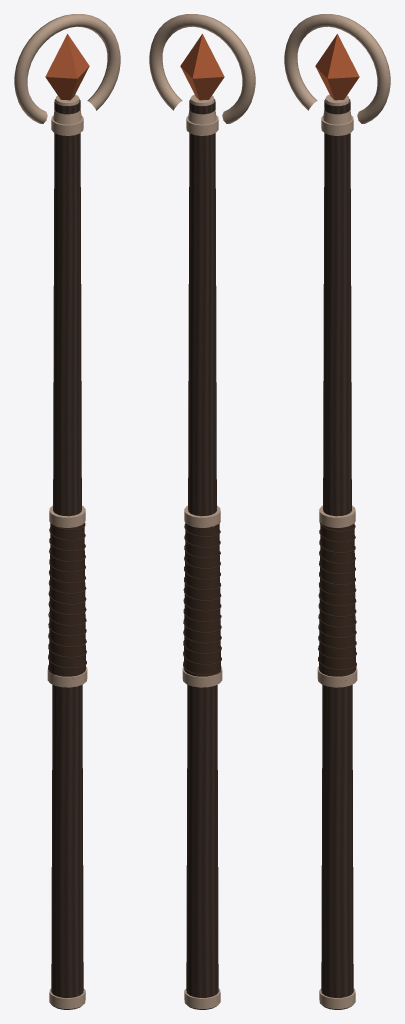
File: corealm_staff_4.glb
The picture shows the model from 3 angles, left to right: view 1: azimuth 30°, elevation 25°; view 2: azimuth 150°, elevation 25°; view 3: azimuth 330°, elevation 25°; orthographic projection.
Parts seen in each view (by area): view 1: corealm-weapon-wood, corealm-weapon-metal, corealm-weapon-leather, corealm-weapon-gem; view 2: corealm-weapon-wood, corealm-weapon-metal, corealm-weapon-leather, corealm-weapon-gem; view 3: corealm-weapon-wood, corealm-weapon-metal, corealm-weapon-leather, corealm-weapon-gem.
Part boxes in pixels (x1,y1,x2,y2): corealm-weapon-wood: [51, 99, 83, 1009]; corealm-weapon-metal: [14, 14, 120, 1008]; corealm-weapon-leather: [48, 522, 86, 678]; corealm-weapon-gem: [45, 34, 89, 100]; corealm-weapon-wood: [186, 99, 218, 1009]; corealm-weapon-metal: [149, 14, 255, 1008]; corealm-weapon-leather: [183, 520, 221, 676]; corealm-weapon-gem: [180, 34, 224, 100]; corealm-weapon-wood: [321, 99, 353, 1009]; corealm-weapon-metal: [284, 14, 390, 1008]; corealm-weapon-leather: [318, 521, 356, 680]; corealm-weapon-gem: [315, 34, 359, 100].
Size of the model in its own units: 0.1938 by 1.74 by 0.064.
Materials: 4 (2 with a texture image).
